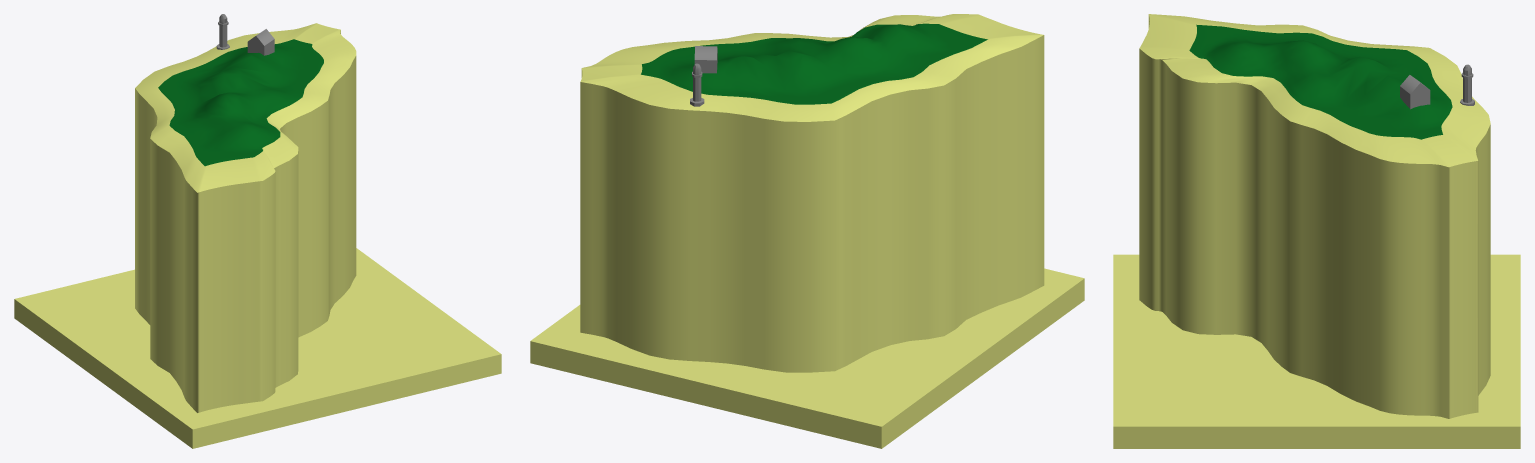
File: Quest_Medium_Island_02.fbx
The picture shows the model from 3 angles, left to right: view 1: azimuth 30°, elevation 25°; view 2: azimuth 150°, elevation 25°; view 3: azimuth 270°, elevation 25°; orthographic projection. The views are drawn at different scales.
Parts seen in each view (by area): view 1: Quest_Medium_Island_02, Medium_Quest_02; view 2: Quest_Medium_Island_02, Medium_Quest_02; view 3: Quest_Medium_Island_02, Medium_Quest_02.
Boxes of the visible parts, x1,y1,x2,y2 form: Quest_Medium_Island_02: [14, 23, 501, 448]; Medium_Quest_02: [216, 14, 274, 55]; Quest_Medium_Island_02: [530, 14, 1084, 448]; Medium_Quest_02: [690, 46, 717, 106]; Quest_Medium_Island_02: [1113, 14, 1520, 448]; Medium_Quest_02: [1400, 64, 1474, 109].
Bounding box in the file's own units: 68.06 × 57.96 × 68.06.
